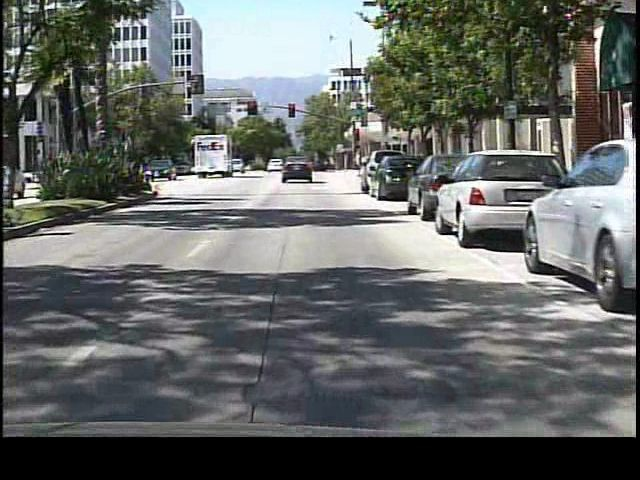person: (352, 148, 366, 179)
